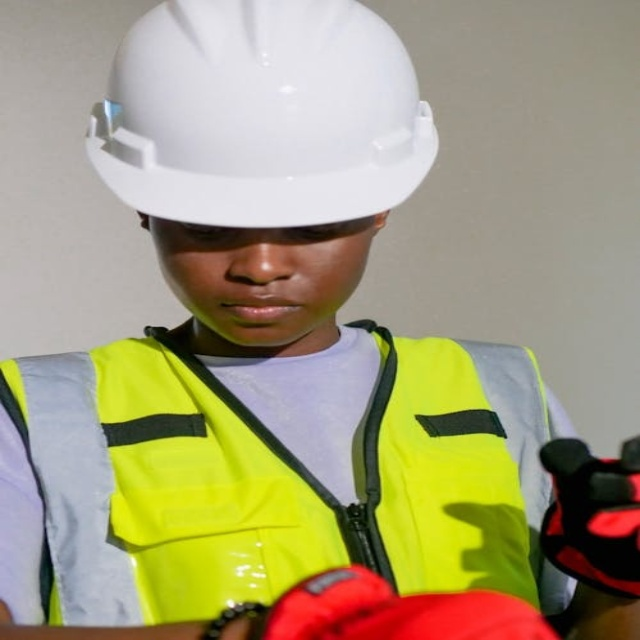Guantes: (258, 564, 566, 640), (536, 434, 637, 603)
Sin_gafas: (166, 220, 361, 261)
Sin_mascara: (195, 288, 319, 336)
